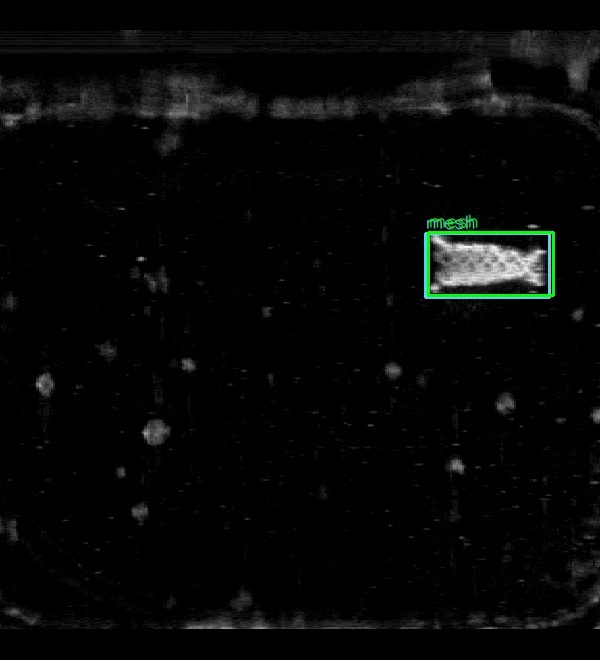mesh: (425, 233, 549, 297)
